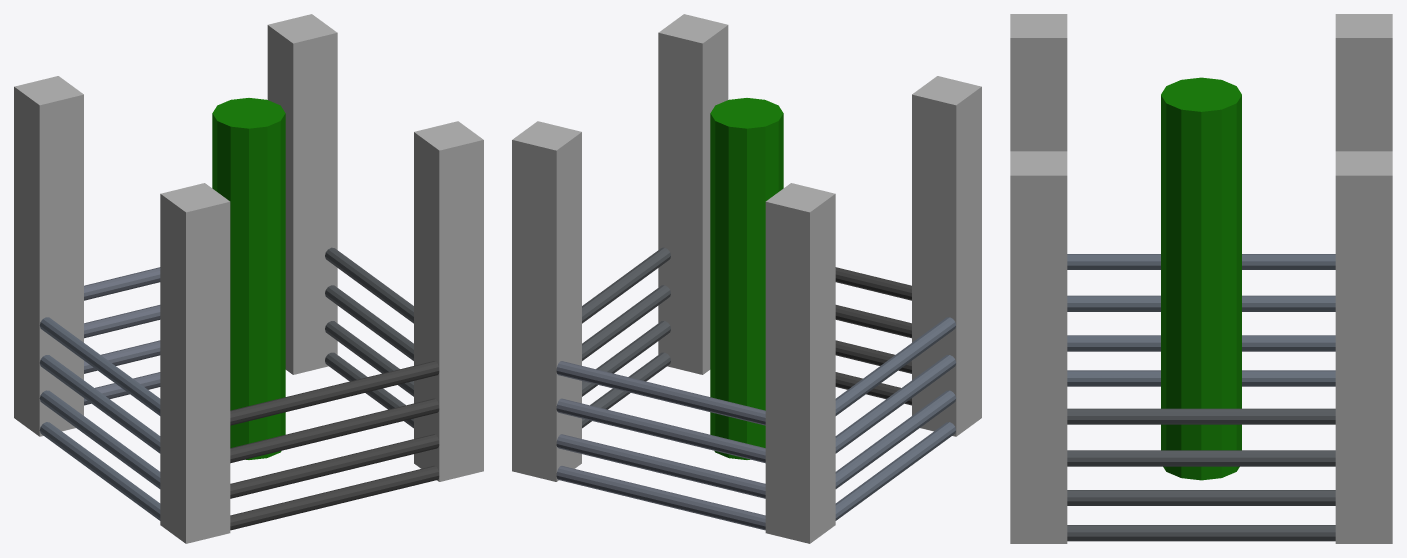
The model's file is reaktor001.fbx.
3 views of the same model, side by side, from view 1: azimuth 30°, elevation 25°; view 2: azimuth 150°, elevation 25°; view 3: azimuth 270°, elevation 25° (orthographic). The views are drawn at different scales.
Parts seen in each view (by area): view 1: Cylinder; view 2: Cylinder; view 3: Cylinder.
Boxes of the visible parts, box(x1,y1,x2,y2) form: Cylinder: box(14, 14, 483, 543); Cylinder: box(512, 14, 981, 543); Cylinder: box(1010, 14, 1392, 543).
Size of the model in its own units: 470 by 500 by 470.
